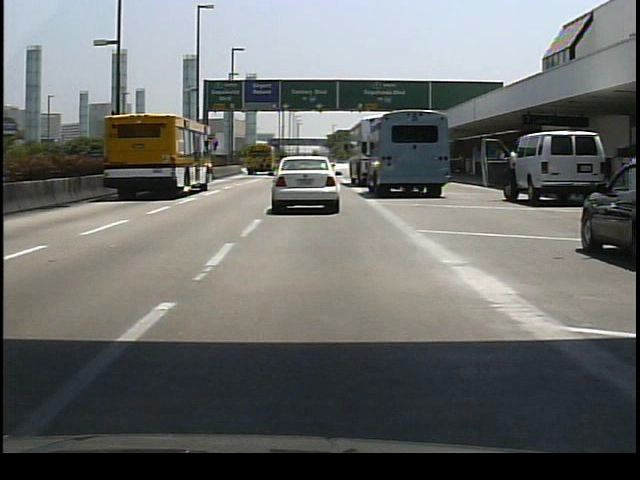person: (504, 137, 522, 210)
